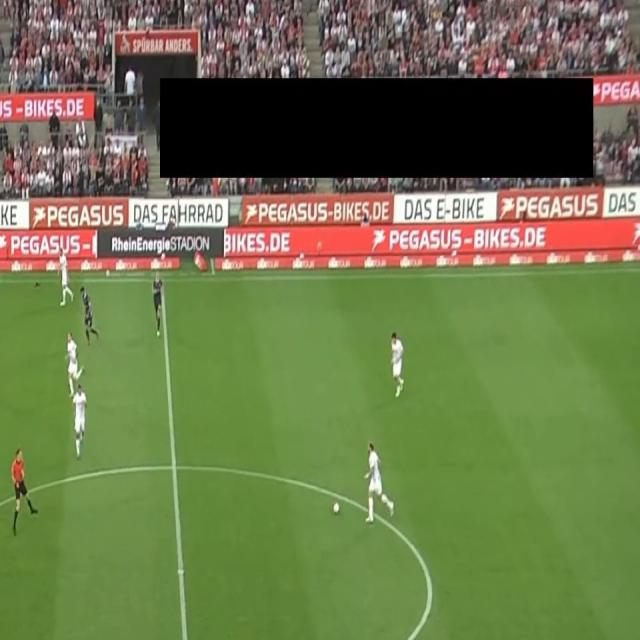ball: (333, 501, 341, 515)
